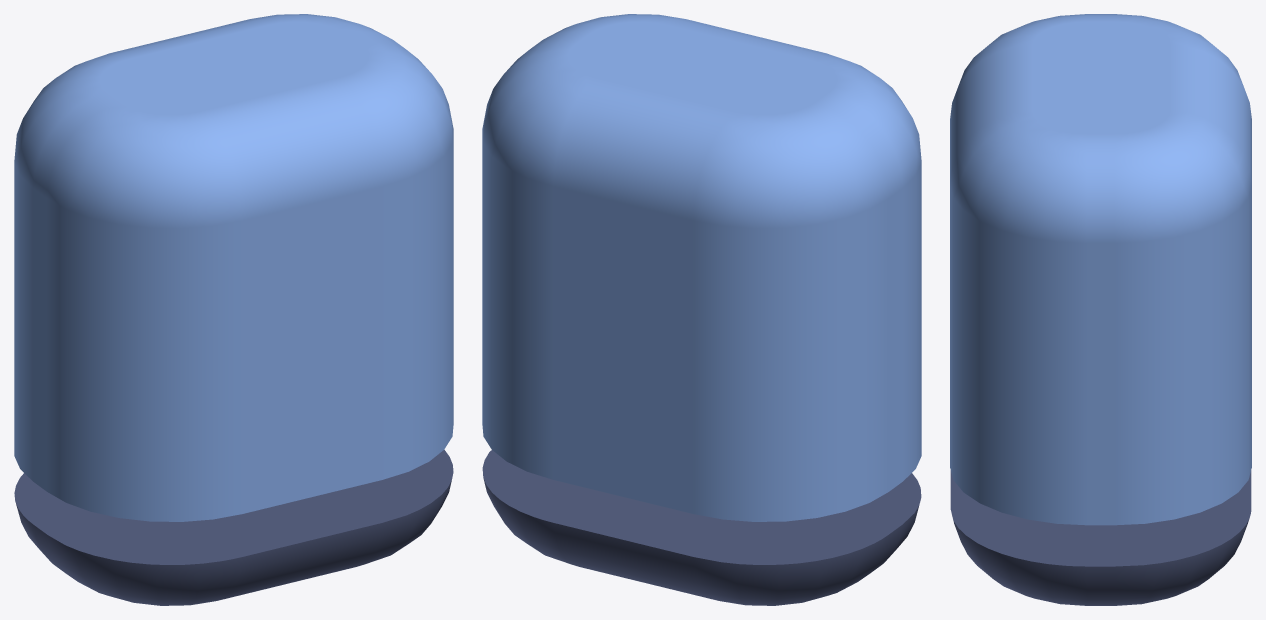
File: CharTorso.glb
3 renders of one model, left to right at view 1: azimuth 30°, elevation 25°; view 2: azimuth 150°, elevation 25°; view 3: azimuth 270°, elevation 25°, orthographic. The views are drawn at different scales.
Visible parts, largest first — view 1: customerBase, pantsNavy; view 2: customerBase, pantsNavy; view 3: customerBase, pantsNavy.
Boxes of the visible parts, left/top/right/bottom form: customerBase: left=14, top=14, right=453, bottom=521; pantsNavy: left=14, top=449, right=453, bottom=605; customerBase: left=482, top=14, right=921, bottom=521; pantsNavy: left=482, top=450, right=921, bottom=605; customerBase: left=950, top=14, right=1251, bottom=525; pantsNavy: left=950, top=470, right=1251, bottom=605.
Bounding box in the file's own units: 0.47 × 0.56 × 0.33.
